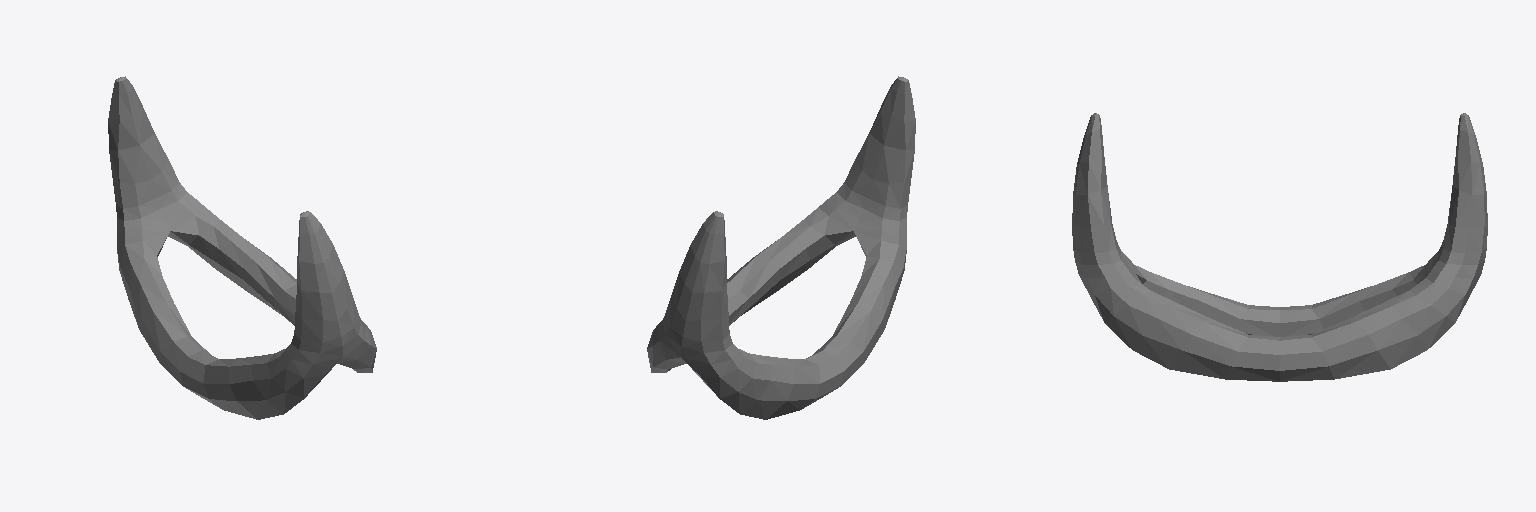
Rendered from demonShoulders.obj.
3 views of the same model, side by side, from view 1: azimuth 30°, elevation 25°; view 2: azimuth 150°, elevation 25°; view 3: azimuth 270°, elevation 25° (orthographic).
Visible parts, largest first — view 1: Cylinder.001; view 2: Cylinder.001; view 3: Cylinder.001.
Boxes of the visible parts, box(x1,y1,x2,y2) form: Cylinder.001: box(108, 76, 376, 419); Cylinder.001: box(647, 76, 915, 419); Cylinder.001: box(1072, 113, 1487, 381).
Bounding box in the file's own units: 2.65 × 4.06 × 6.28.